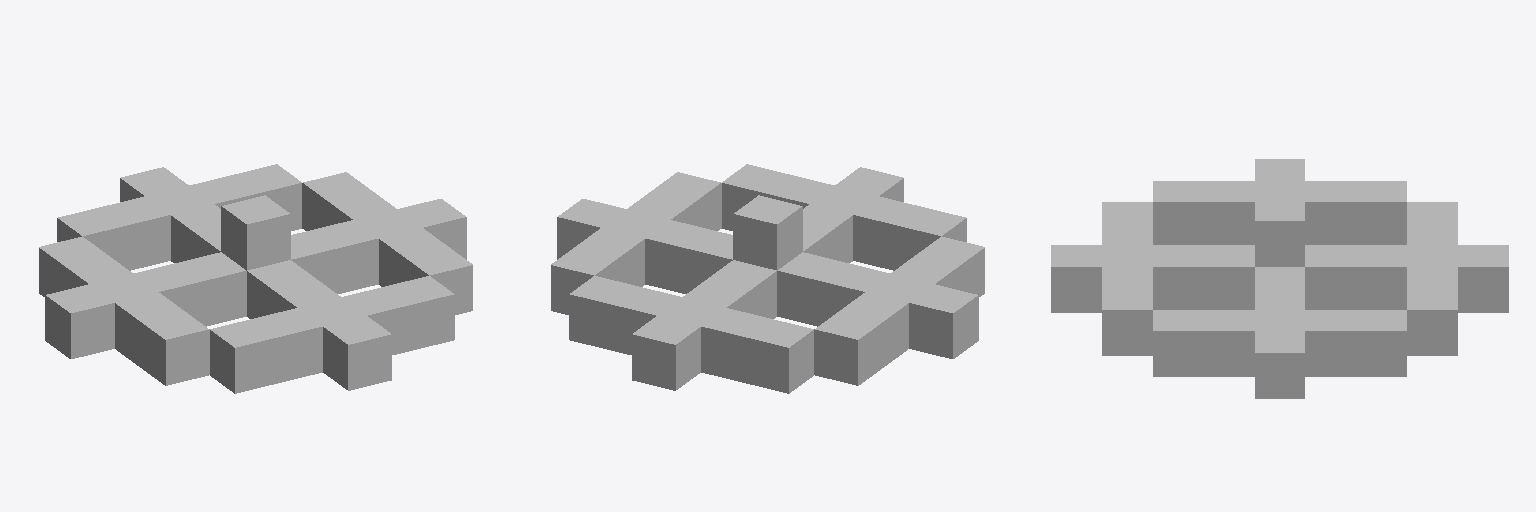
File: Target.obj
The picture shows the model from 3 angles: view 1: azimuth 30°, elevation 25°; view 2: azimuth 150°, elevation 25°; view 3: azimuth 270°, elevation 25°; orthographic projection.
Parts seen in each view (by area): view 1: object 1; view 2: object 1; view 3: object 1.
Boxes of the visible parts, box(x1,y1,x2,y2) form: object 1: box(39, 164, 472, 393); object 1: box(551, 164, 984, 393); object 1: box(1051, 159, 1508, 398).
Size of the model in its own units: 0.9 by 0.2 by 0.9.